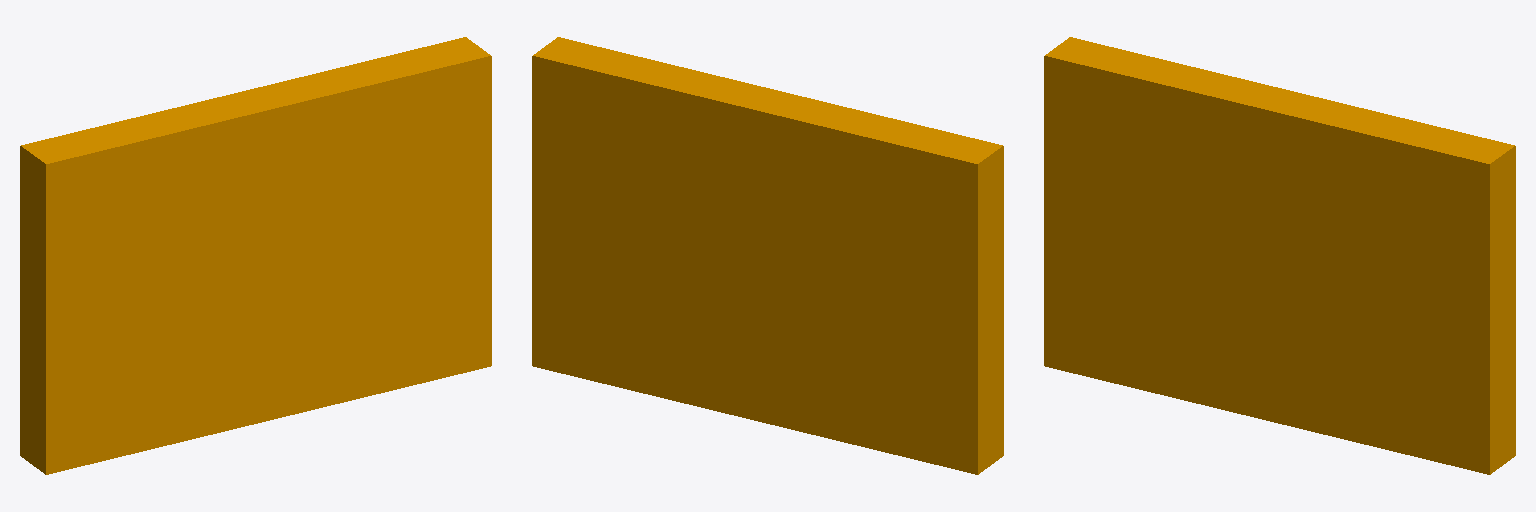
The robot description file, URDF, robot "wall":
<?xml version="1.0" ?>
<robot name="wall">
  <link name="wall__link_2">
    <inertial>
      <mass value="1"/>
      <origin rpy="0 0 0" xyz="0 0 0"/>
      <inertia ixx="0.166667" ixy="0" ixz="0" iyy="0.166667" iyz="0" izz="0.166667"/>
    </inertial>
    <collision name="wall__collision">
      <origin rpy="0 0 0" xyz="0  0  0.05"/>
      <geometry>
        <box size="0.30 0.03 0.2"/>
      </geometry>
    </collision>
    <visual name="wall__visual">
      <origin rpy="0 0 0" xyz="0  0  0.05"/>
      <geometry>
        <box size="0.30 0.03 0.2"/>
      </geometry>
    </visual>
  </link>
</robot>

--- Facts derived from the render (not from the file) ---
The picture shows the robot from 3 angles, left to right: view 1: azimuth 30°, elevation 25°; view 2: azimuth 150°, elevation 25°; view 3: azimuth 330°, elevation 25°; orthographic projection.
Model wall with 1 links and 0 joints (none), rooted at wall__link_2, posed every joint at zero.
Visible links, largest first — view 1: wall__link_2; view 2: wall__link_2; view 3: wall__link_2.
Link boxes in pixels (bbox=[...]): wall__link_2: bbox=[20, 37, 491, 474]; wall__link_2: bbox=[532, 37, 1003, 474]; wall__link_2: bbox=[1044, 37, 1515, 474].
Bounding box of the posed robot: 0.3 × 0.03 × 0.2 m (x, y, z).
Geometry: primitives only (box / cylinder / sphere), no mesh files.